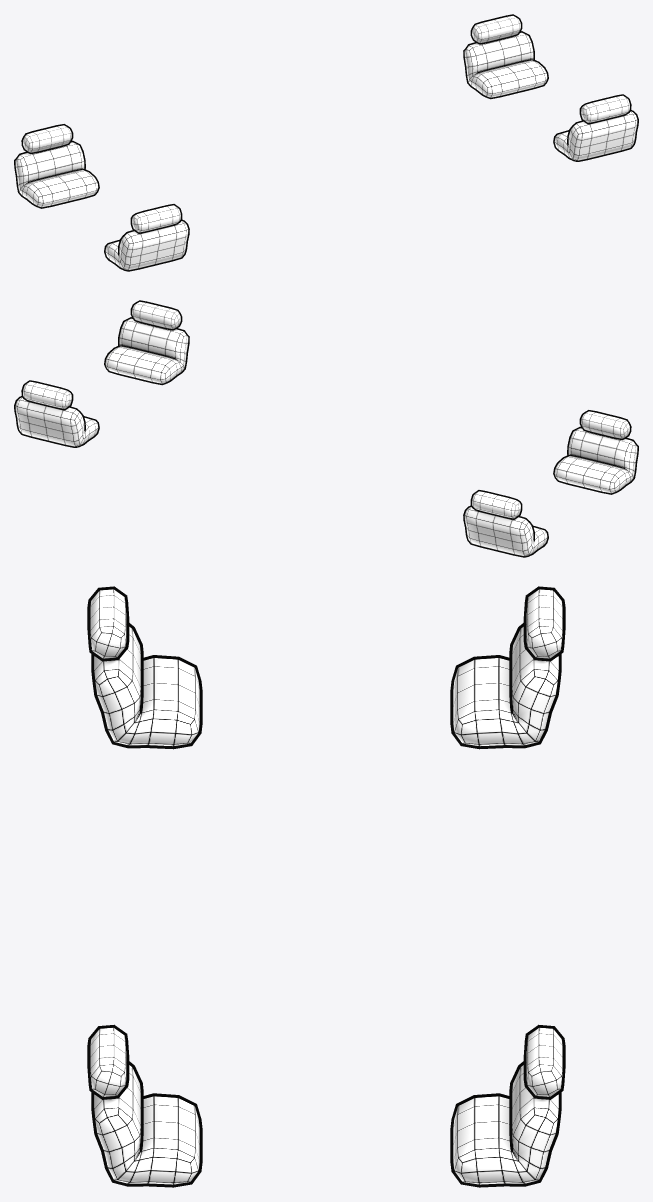
Rendered from obj_bench.gltf.
3 renders of one model, top to bottom at view 1: azimuth 30°, elevation 25°; view 2: azimuth 150°, elevation 25°; view 3: azimuth 270°, elevation 25°, orthographic. The views are drawn at different scales.
Visible parts, largest first — view 1: obj_bench; view 2: obj_bench; view 3: obj_bench.
Boxes of the visible parts, x1,y1,x2,y2 form: obj_bench: [14, 14, 638, 271]; obj_bench: [14, 300, 638, 557]; obj_bench: [87, 586, 565, 1187].
Size of what is drawn, in the model's own units: 10.79 by 1.2 by 4.34.
Materials: 1 (1 with a texture image).
